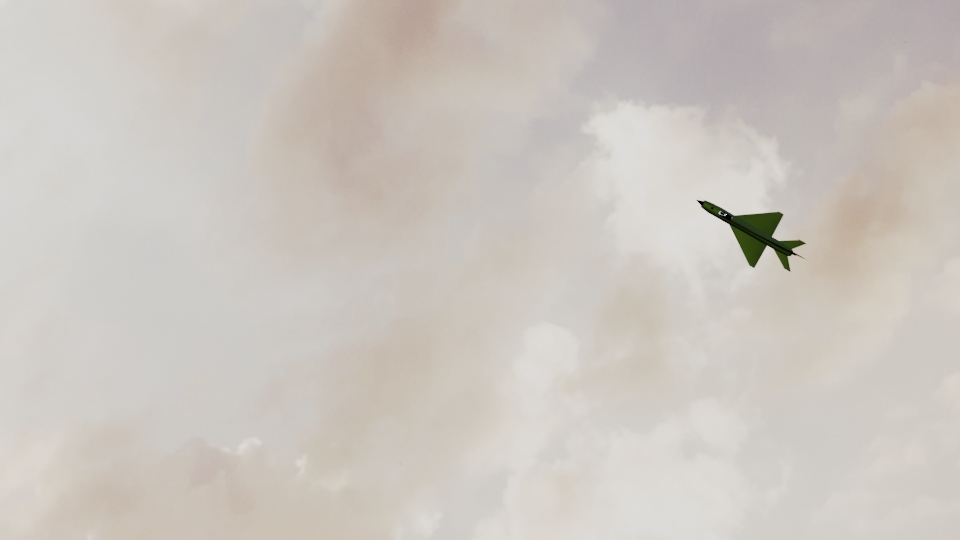plane: (695, 196, 806, 271)
